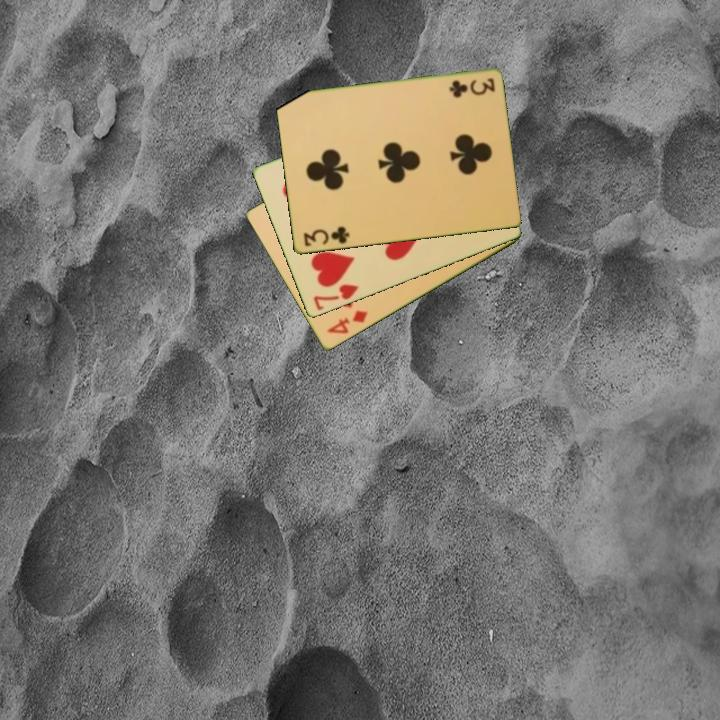3c: (299, 223, 352, 249), (445, 75, 498, 99)
4d: (323, 307, 371, 337)
7h: (310, 281, 361, 314)
